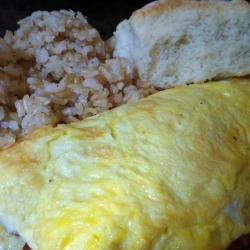bread: (110, 2, 249, 82)
omelette: (1, 81, 246, 249)
rice: (3, 10, 134, 127)
